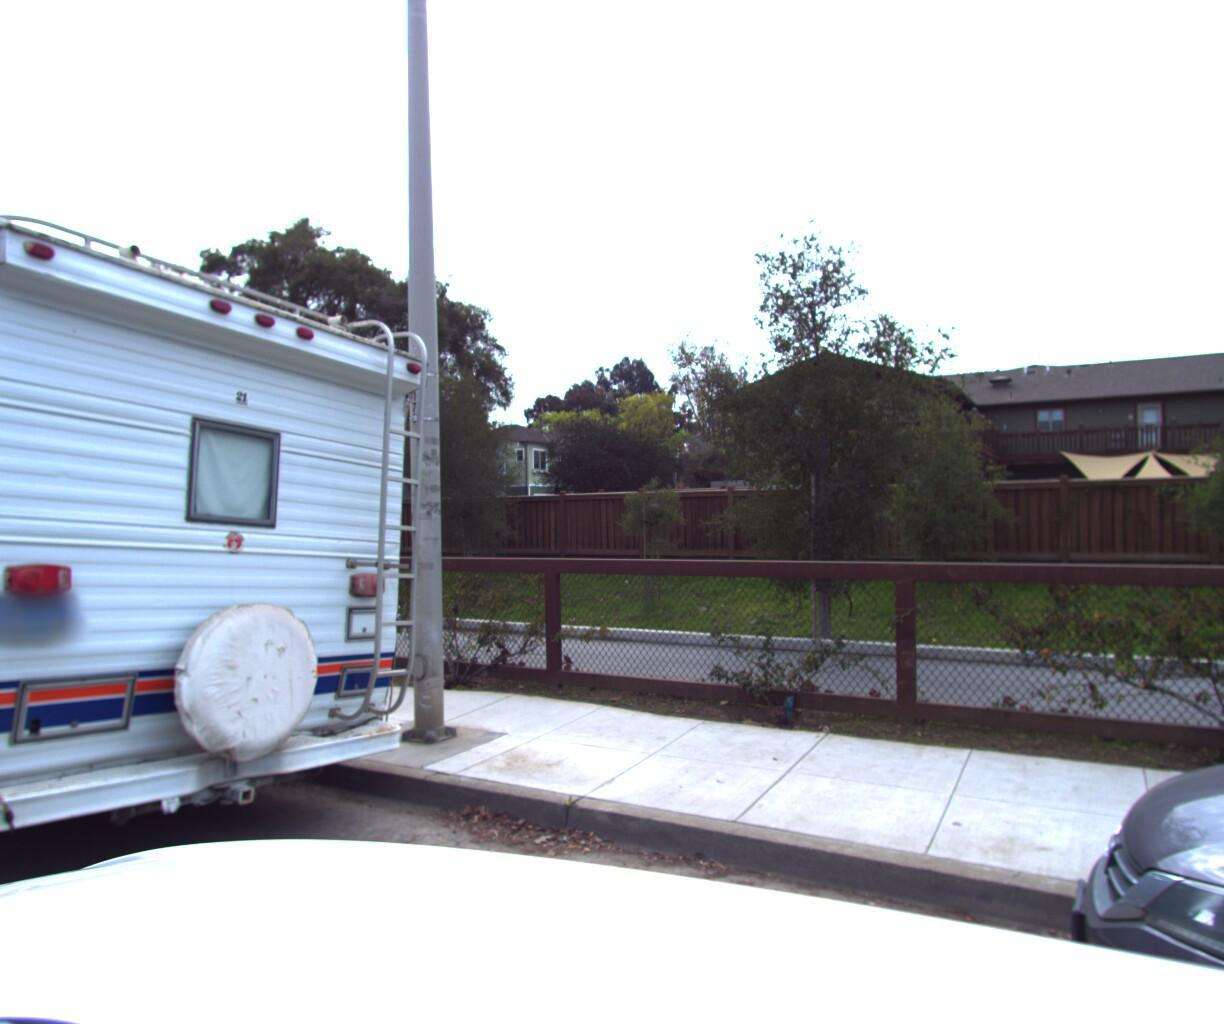other_vehicle: (0, 138, 467, 1014)
